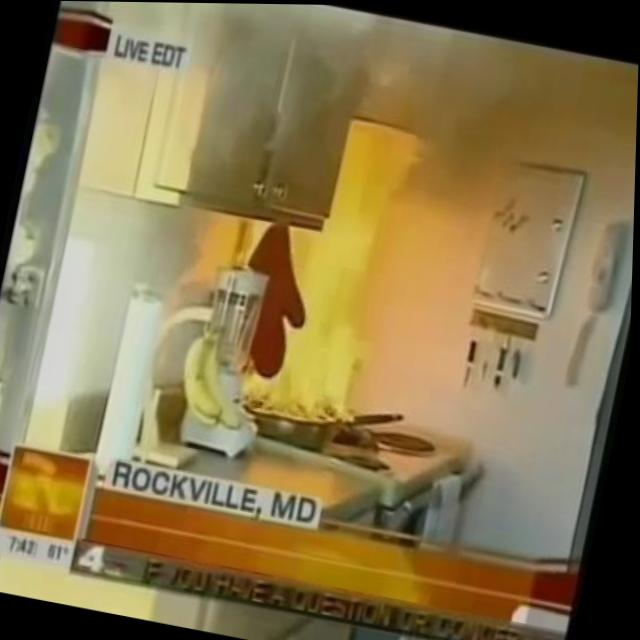fire: (218, 219, 399, 428), (328, 118, 432, 256)
